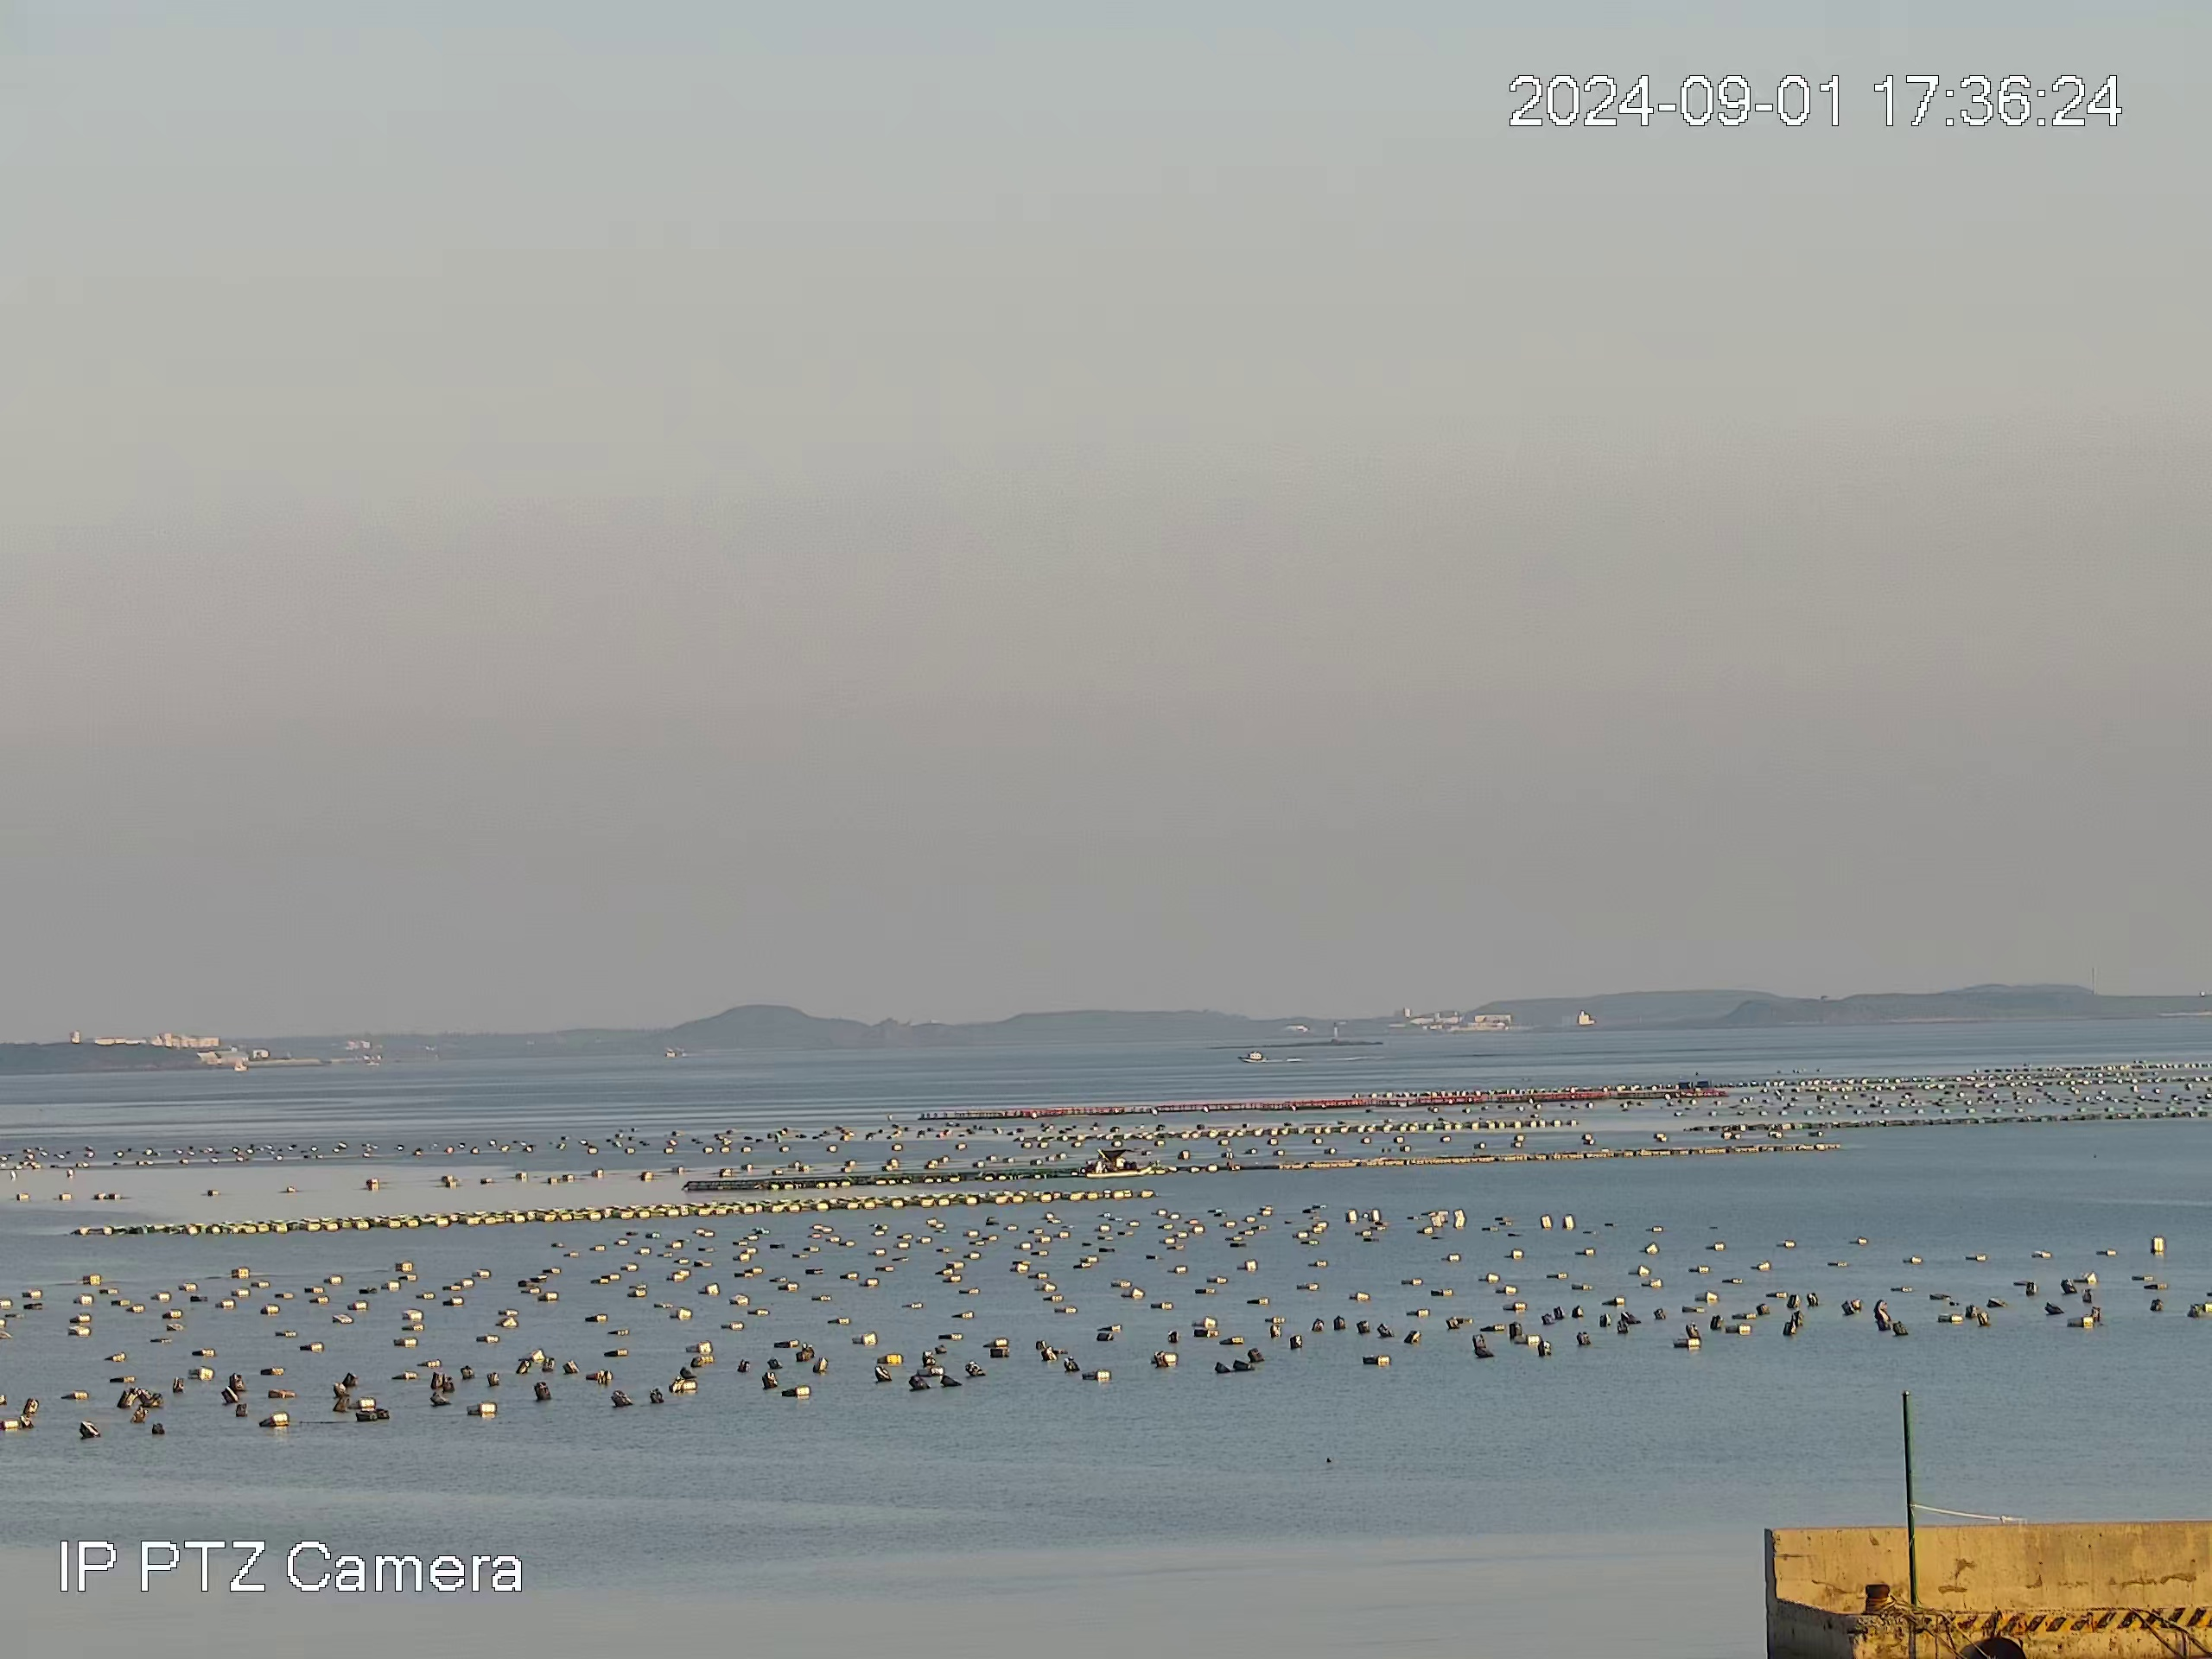boat: (1087, 1140, 1153, 1175)
